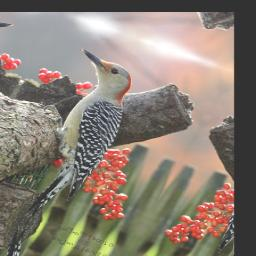Woodpecker: (0, 43, 155, 233)
